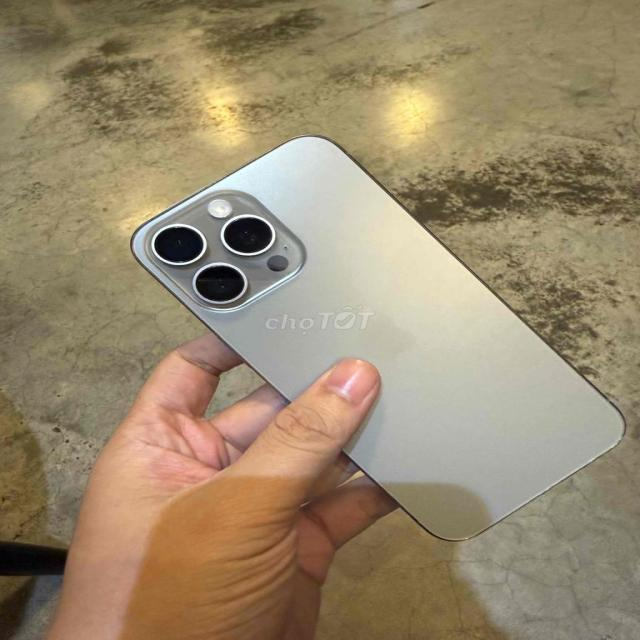scratch: (460, 424, 624, 543)
